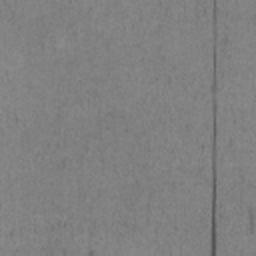Scratches: (210, 0, 218, 256), (248, 207, 254, 234)
